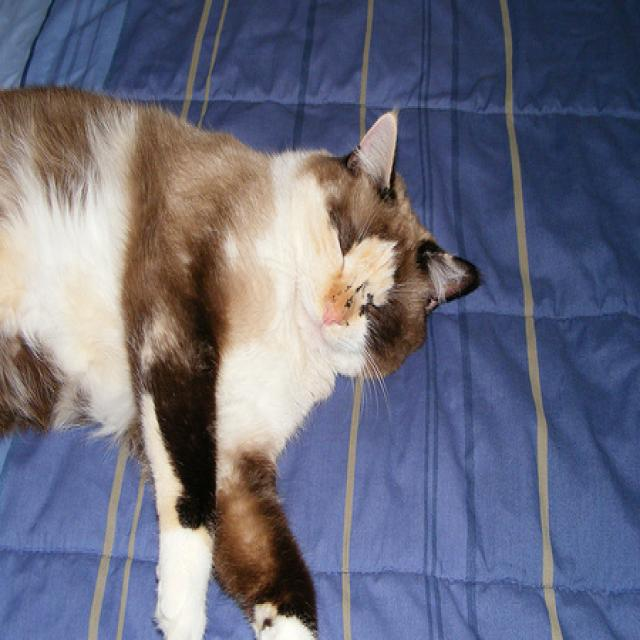Ragdoll: (0, 75, 489, 640)
